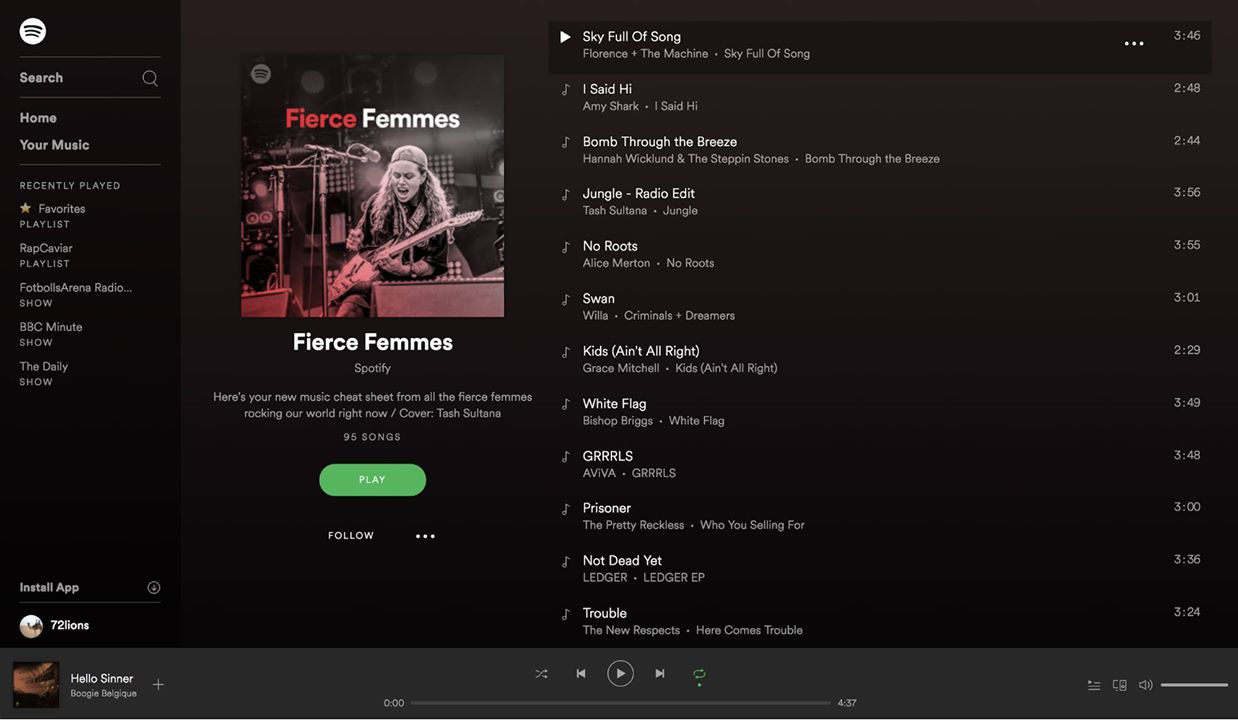Criminals + Dreamers: (623, 307, 739, 326)
Femmes: (361, 329, 458, 356)
